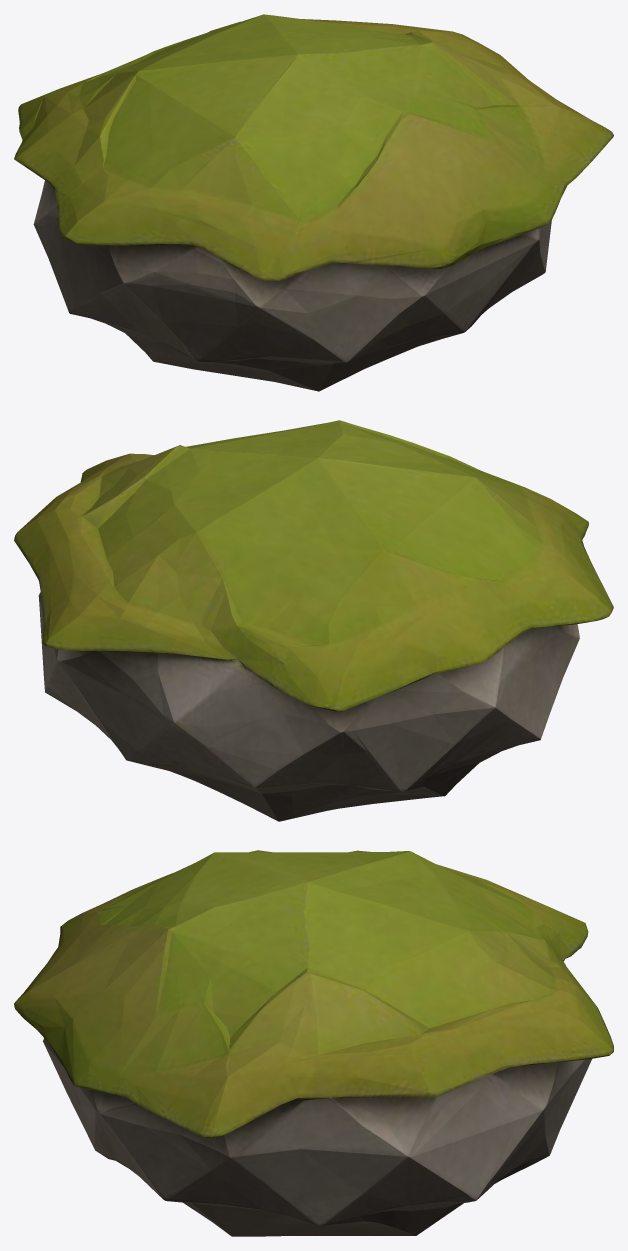
File: d_racines_rocher.glb
The picture shows the model from 3 angles, top to bottom: view 1: azimuth 30°, elevation 25°; view 2: azimuth 150°, elevation 25°; view 3: azimuth 270°, elevation 25°; orthographic projection. The views are drawn at different scales.
Parts seen in each view (by area): view 1: geometry_0; view 2: geometry_0; view 3: geometry_0.
Boxes of the visible parts, left/top/right/bottom form: geometry_0: left=14, top=14, right=613, bottom=391; geometry_0: left=14, top=420, right=613, bottom=821; geometry_0: left=14, top=850, right=613, bottom=1236.
Size of the model in its own units: 0.999 by 0.5539 by 0.9307.
1 material, 1 textured.
